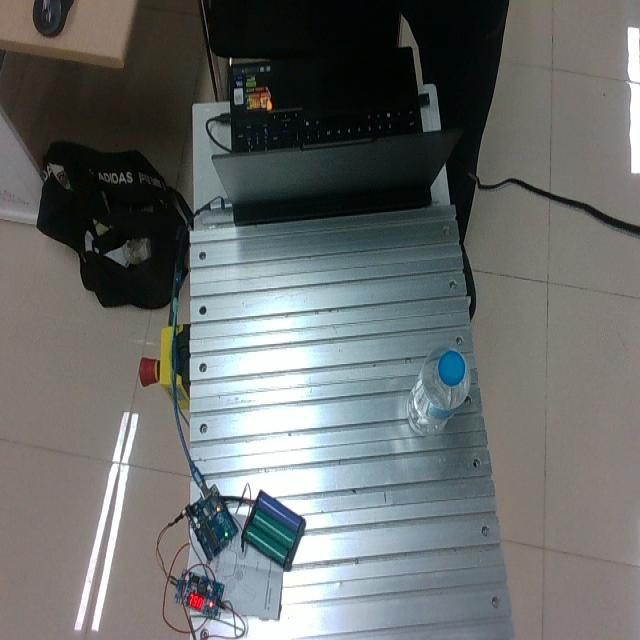lavie: (405, 344, 471, 436)
